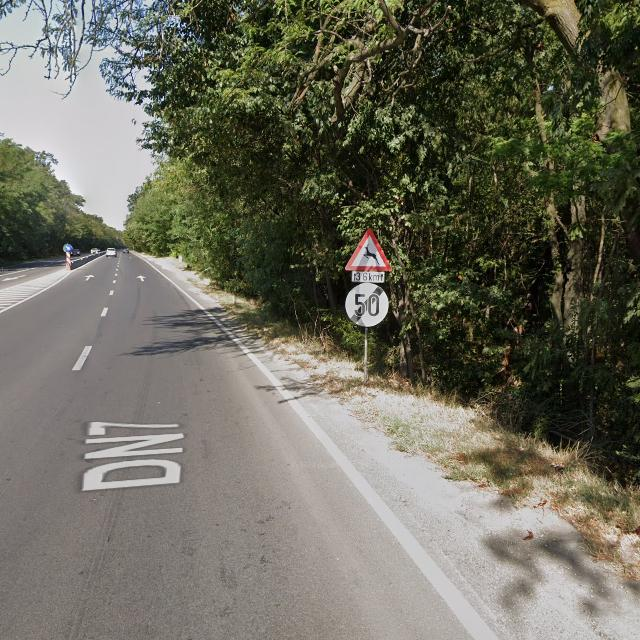mand_pass_right: (64, 244, 73, 252)
warn_wild_animals: (344, 228, 392, 270)
